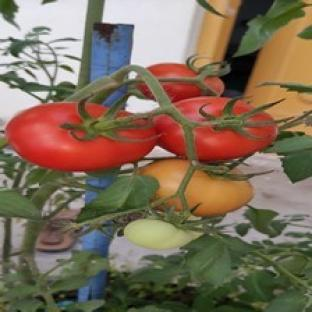Tomato: (6, 104, 157, 171), (194, 112, 278, 161), (184, 170, 253, 217), (124, 219, 200, 250), (147, 63, 197, 77)
